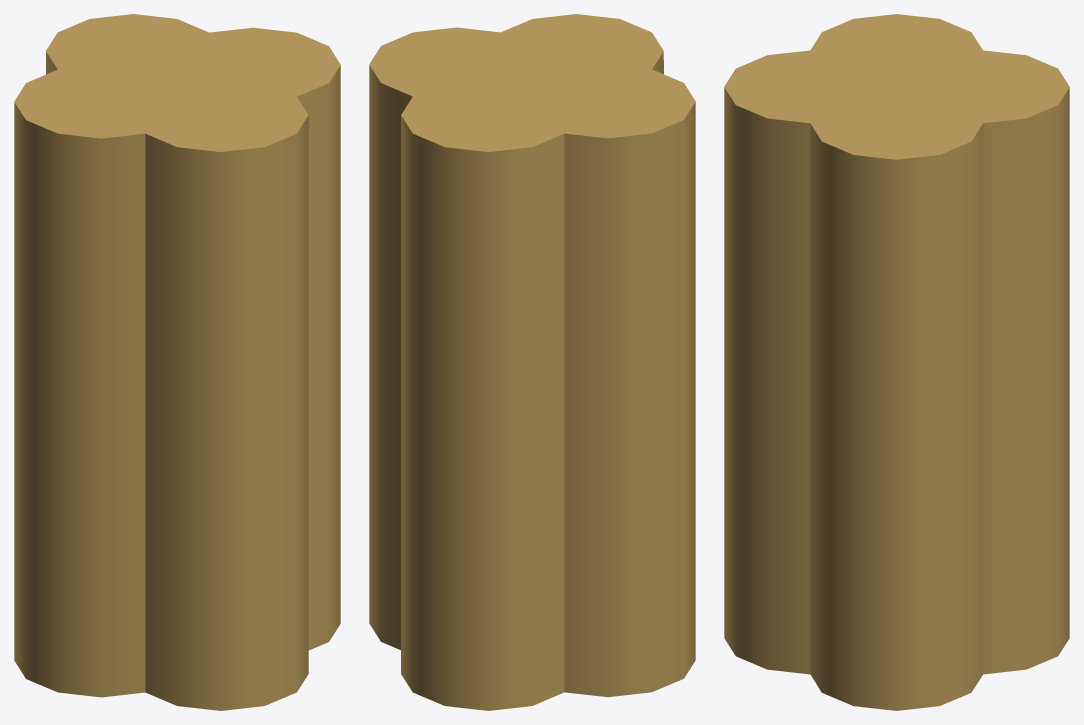
The model's file is Pillar_06C.fbx.
3 views of the same model, side by side, from view 1: azimuth 30°, elevation 25°; view 2: azimuth 150°, elevation 25°; view 3: azimuth 270°, elevation 25° (orthographic).
Visible parts, largest first — view 1: Pillar_06C; view 2: Pillar_06C; view 3: Pillar_06C.
Boxes of the visible parts, x1,y1,x2,y2 form: Pillar_06C: [14, 14, 340, 710]; Pillar_06C: [369, 14, 695, 710]; Pillar_06C: [724, 14, 1069, 710].
Size of the model in its own units: 85.11 by 150 by 85.23.
